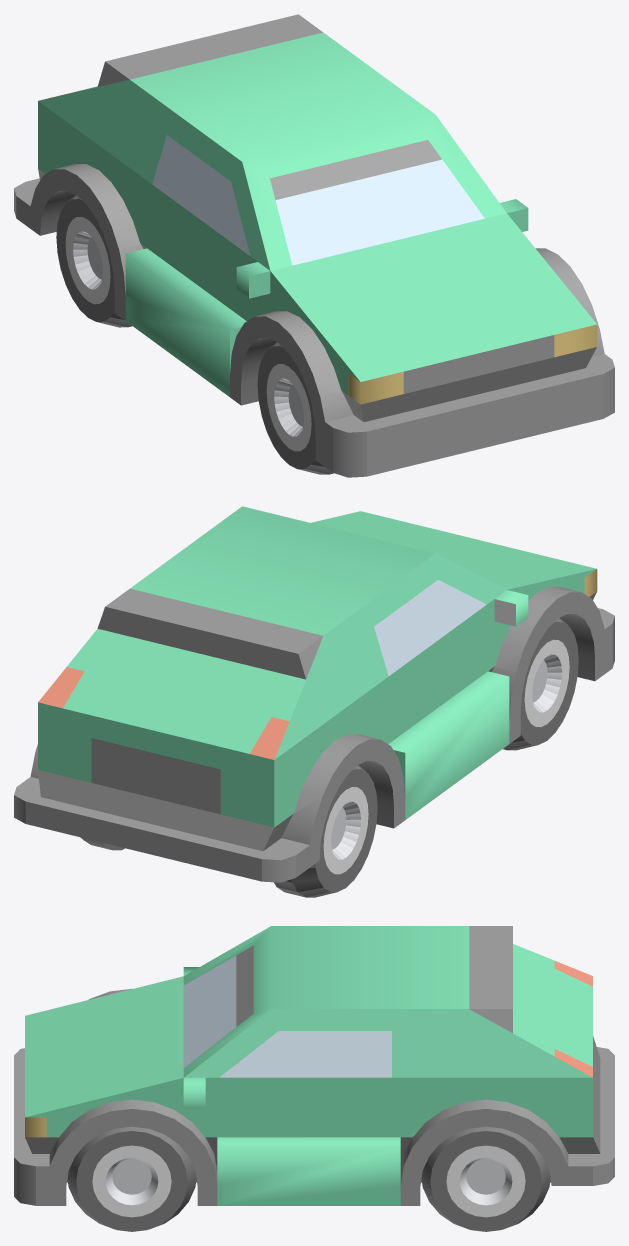
File: car5.fbx
3 views of the same model, one above another, from view 1: azimuth 30°, elevation 25°; view 2: azimuth 150°, elevation 25°; view 3: azimuth 270°, elevation 25° (orthographic). The views are drawn at different scales.
Parts seen in each view (by area): view 1: car.004; view 2: car.004; view 3: car.004.
Boxes of the visible parts, <box> form: car.004: <box>14,14,614,477</box>; car.004: <box>14,506,614,897</box>; car.004: <box>14,926,614,1231</box>.
Size of the model in its own units: 208 by 176 by 440.
